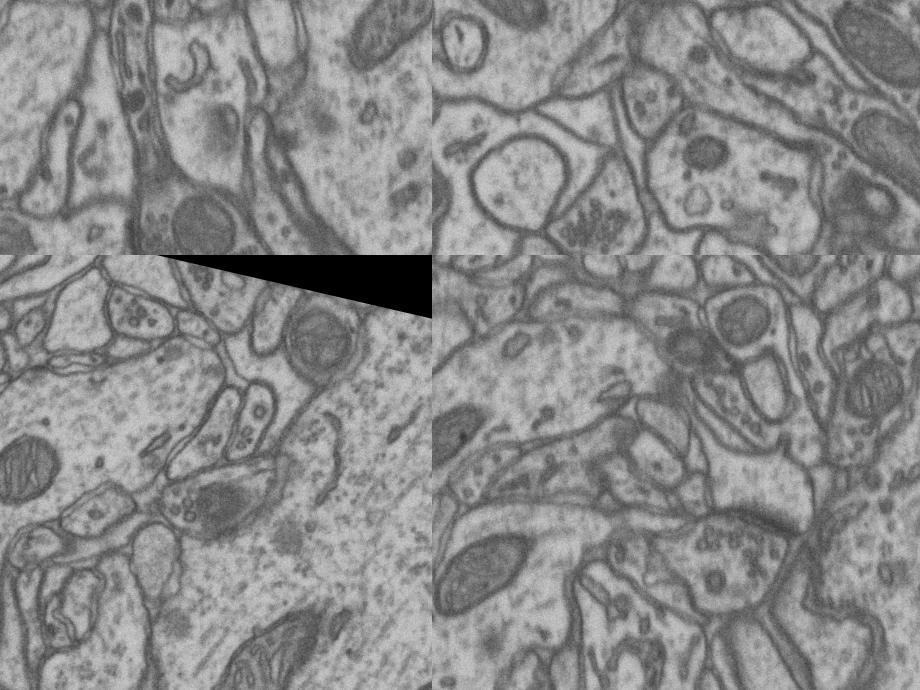mitochondria: (174, 566, 345, 690), (432, 500, 548, 639), (826, 93, 920, 231), (325, 0, 432, 100), (817, 0, 920, 98), (269, 288, 366, 388), (175, 460, 262, 550), (0, 417, 73, 523), (832, 346, 918, 435), (156, 180, 249, 255), (432, 380, 497, 485), (432, 0, 577, 47), (648, 312, 730, 384), (704, 284, 782, 357), (670, 119, 742, 188), (748, 255, 835, 291)
